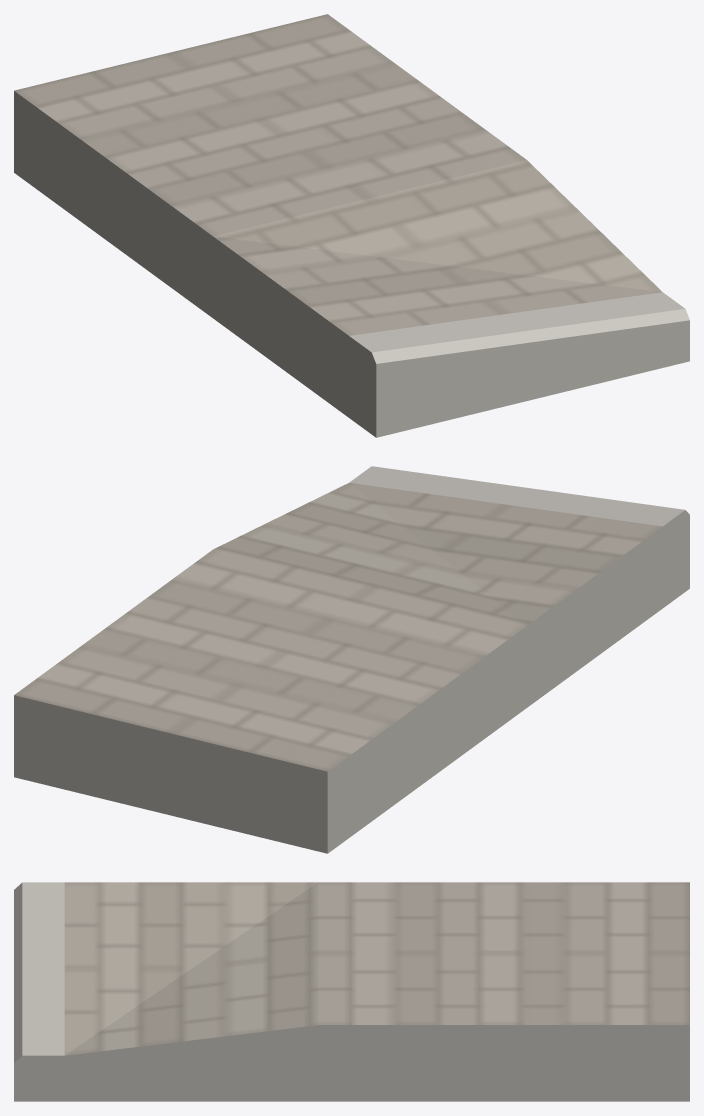
The model's file is SM_Ground_SidewalkDriveRamp_200x100_R_01.fbx.
The picture shows the model from 3 angles, top to bottom: view 1: azimuth 30°, elevation 25°; view 2: azimuth 150°, elevation 25°; view 3: azimuth 270°, elevation 25°; orthographic projection. The views are drawn at different scales.
Parts seen in each view (by area): view 1: SM_Ground_SidewalkDriveRamp_200x100_R_01; view 2: SM_Ground_SidewalkDriveRamp_200x100_R_01; view 3: SM_Ground_SidewalkDriveRamp_200x100_R_01.
Part boxes in pixels (x1=…): SM_Ground_SidewalkDriveRamp_200x100_R_01: x1=14, y1=14, x2=689, y2=437; SM_Ground_SidewalkDriveRamp_200x100_R_01: x1=14, y1=466, x2=689, y2=853; SM_Ground_SidewalkDriveRamp_200x100_R_01: x1=14, y1=882, x2=689, y2=1101.
Bounding box in the file's own units: 1 × 0.25 × 2.
1 material, 1 textured.
